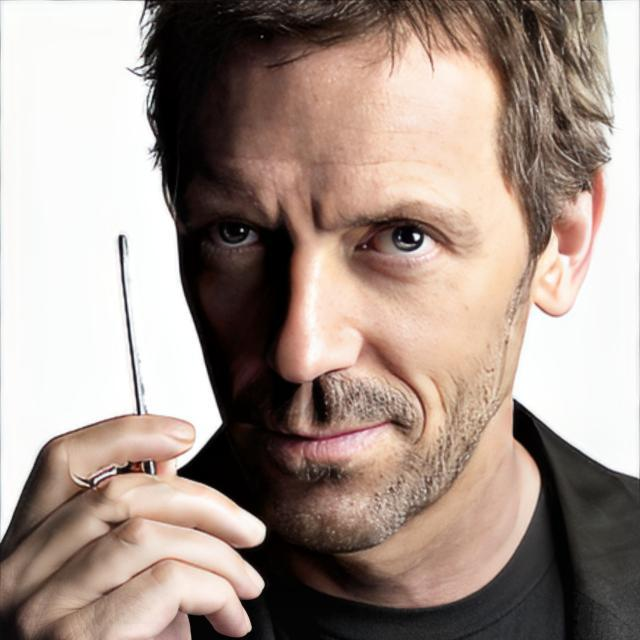content: (160, 22, 536, 557)
